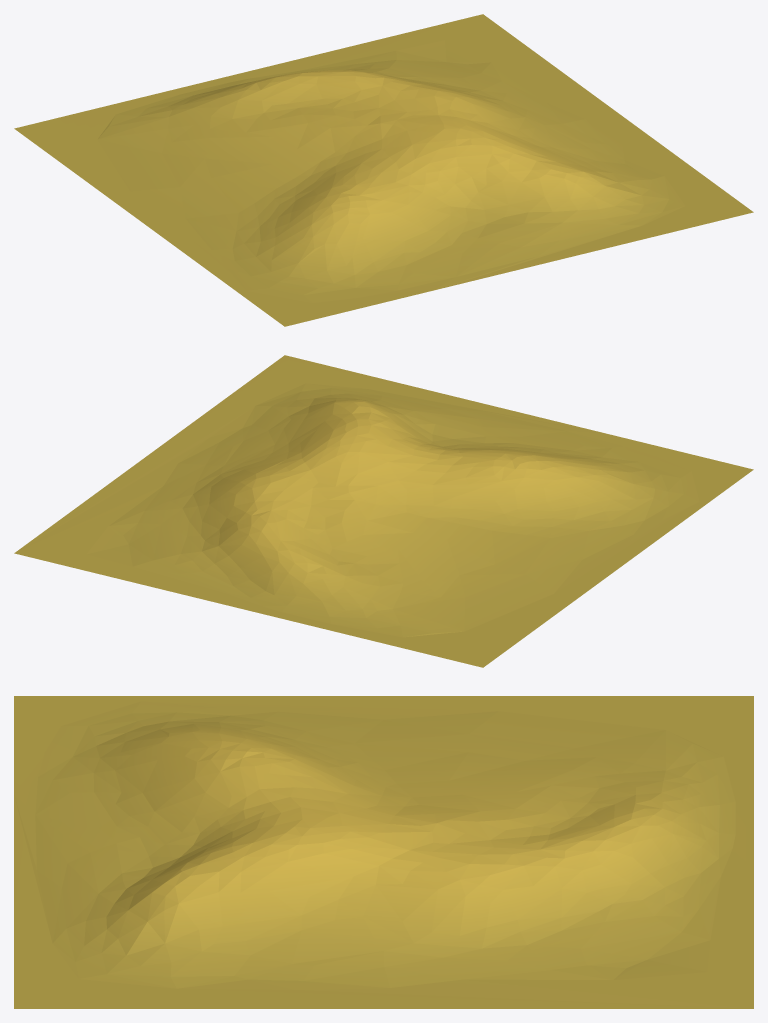
Rendered from Terrain_18.glb.
3 renders of one model, top to bottom at view 1: azimuth 30°, elevation 25°; view 2: azimuth 150°, elevation 25°; view 3: azimuth 270°, elevation 25°, orthographic. The views are drawn at different scales.
Parts seen in each view (by area): view 1: Terrain_18; view 2: Terrain_18; view 3: Terrain_18.
Boxes of the visible parts, x1,y1,x2,y2 form: Terrain_18: [14, 14, 753, 326]; Terrain_18: [14, 355, 753, 667]; Terrain_18: [14, 696, 753, 1008].
Size of the model in its own units: 128 by 10.66 by 128.
1 material, 1 textured.
